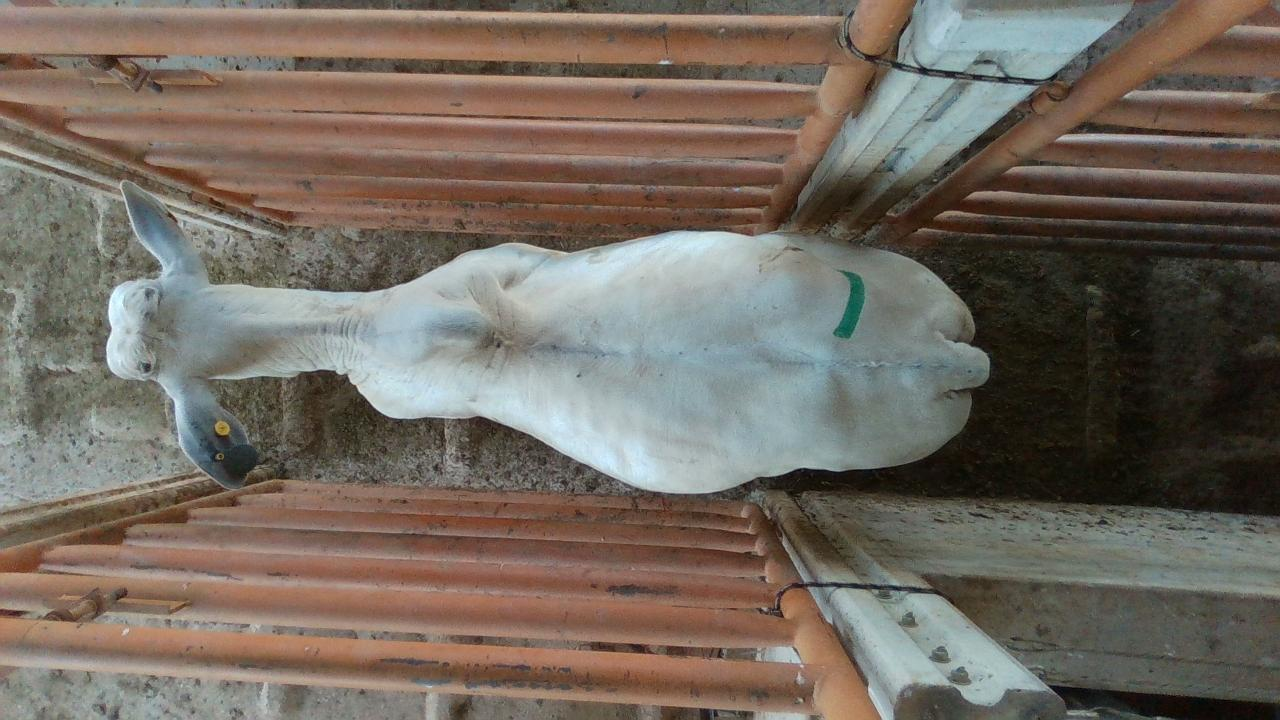cattle: (103, 178, 991, 496)
